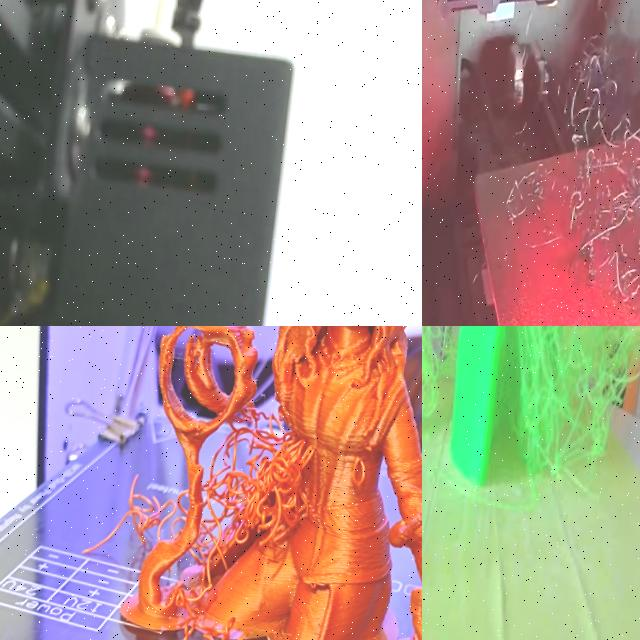spaghetti: (468, 5, 640, 326), (76, 388, 322, 598), (517, 326, 640, 474), (157, 586, 243, 640)
